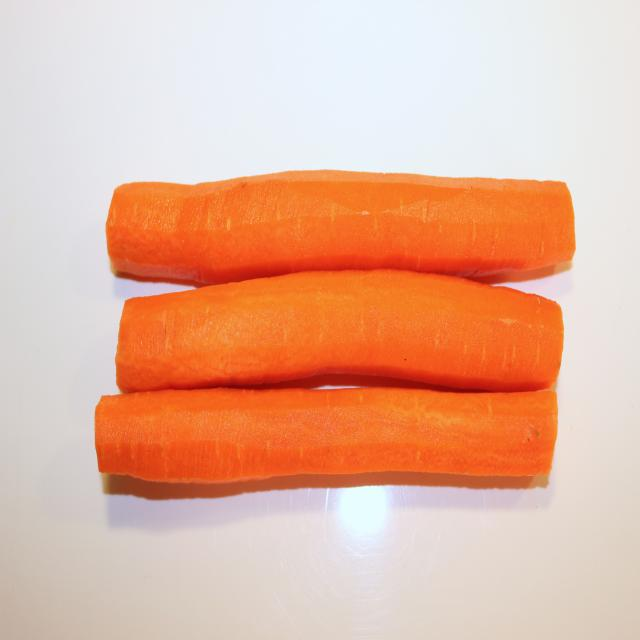carrot: (97, 262, 565, 499), (93, 379, 559, 501), (104, 172, 577, 289)
